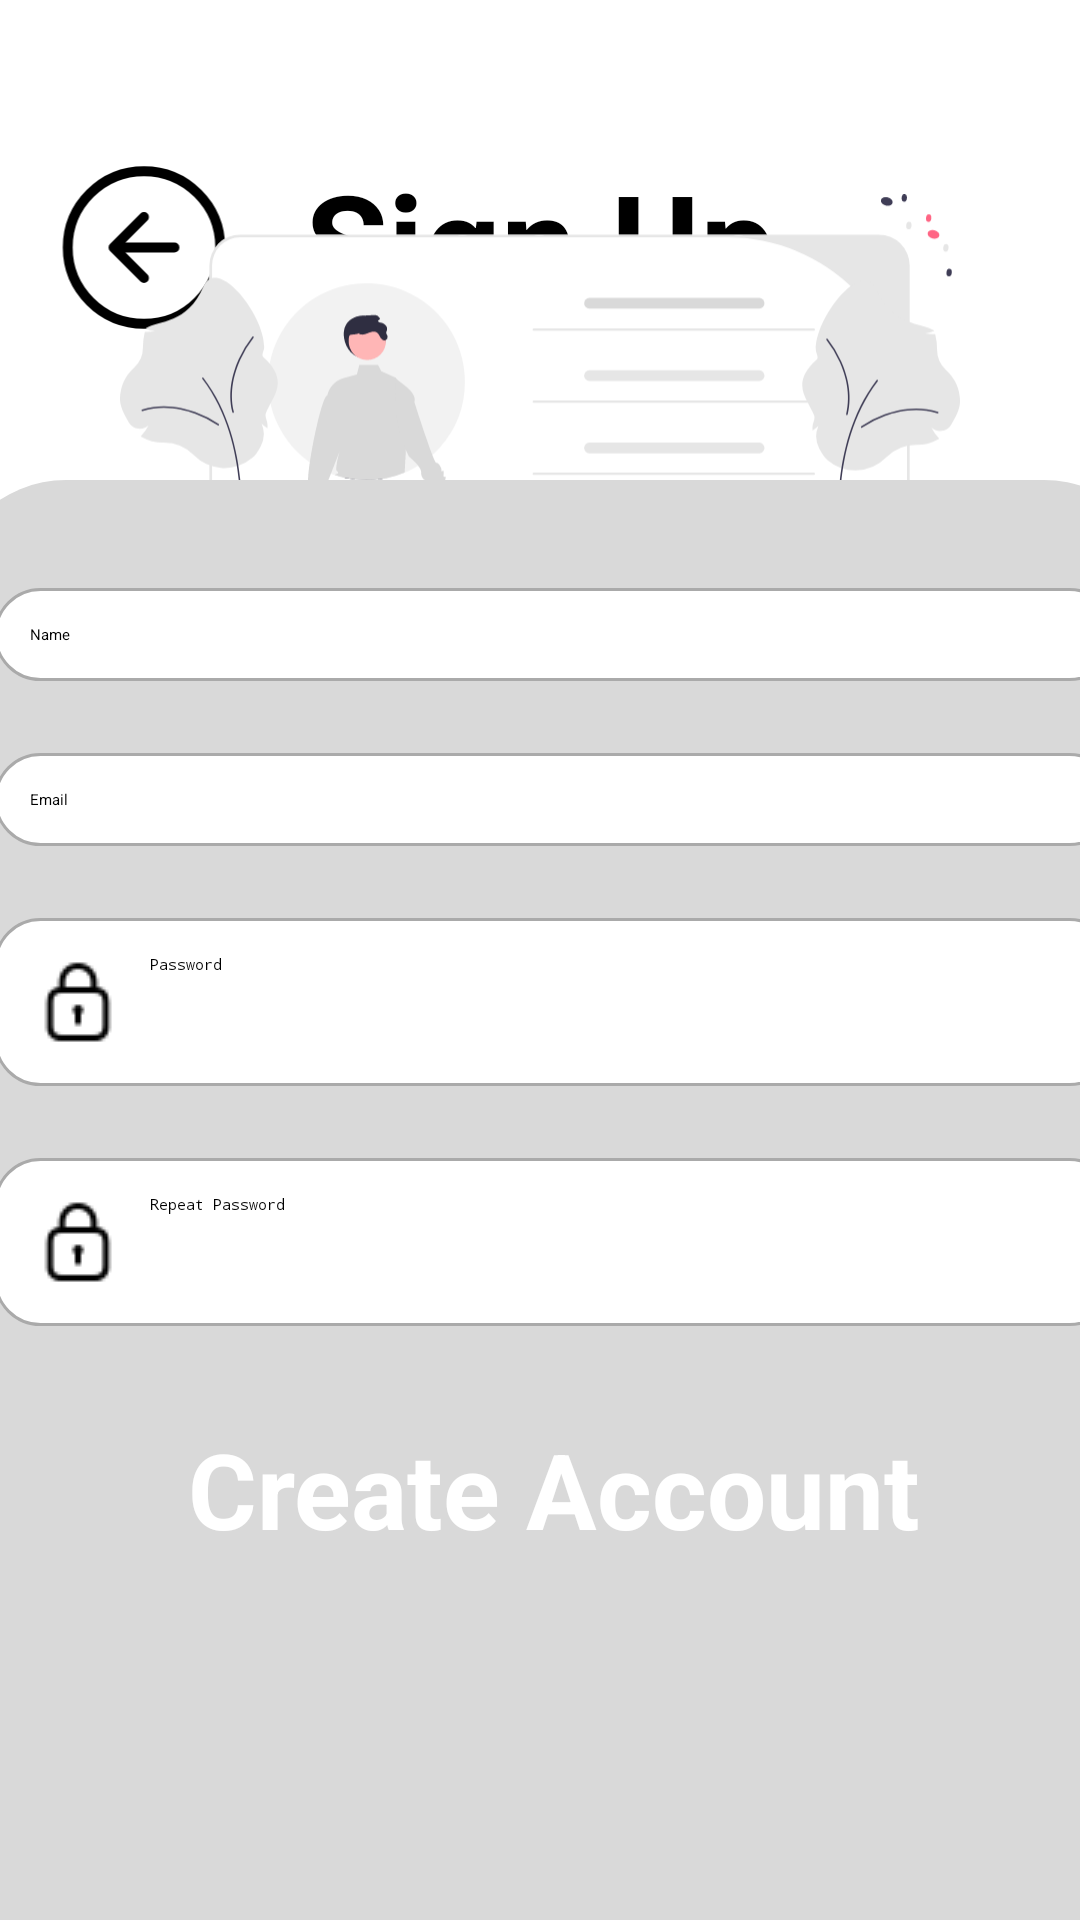

Named icons in this screenshot (1080x1920) and their centers, [x,y]:
backbutton: [175,252]
